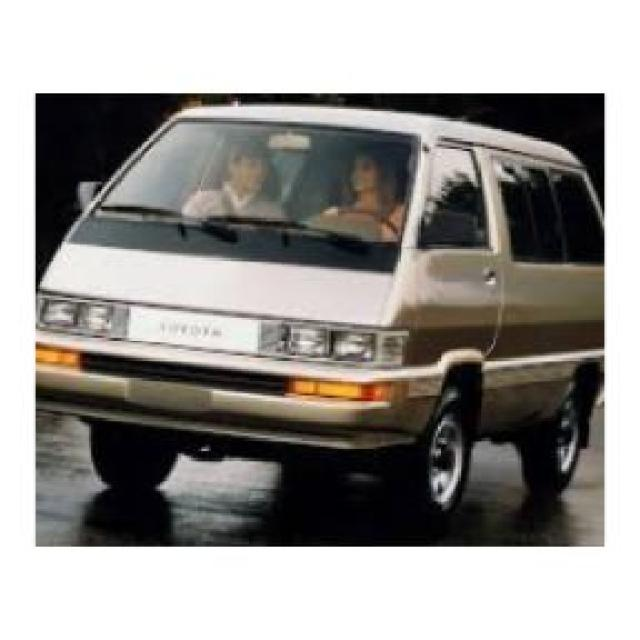Van: (36, 88, 605, 516)
